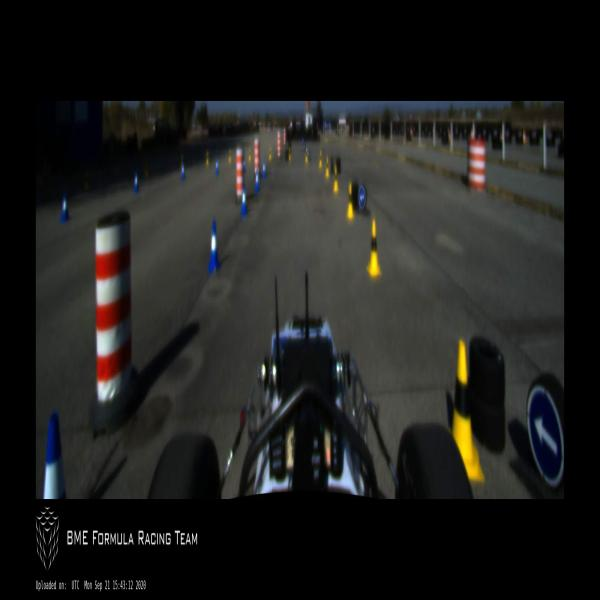blue_cone: (43, 411, 66, 498), (207, 219, 221, 274), (61, 192, 70, 223), (240, 185, 248, 216), (254, 169, 260, 192), (133, 170, 138, 193), (262, 159, 266, 179), (215, 157, 219, 175), (182, 162, 186, 180), (243, 155, 246, 172)
yellow_cone: (448, 340, 485, 482), (365, 219, 382, 277), (346, 183, 354, 218), (333, 166, 339, 192), (84, 170, 90, 192), (325, 155, 330, 178), (144, 159, 148, 177), (248, 147, 252, 162), (228, 149, 232, 163), (319, 151, 322, 168), (305, 148, 308, 164), (180, 154, 183, 170), (269, 146, 272, 161), (206, 151, 209, 166), (289, 147, 291, 162)
